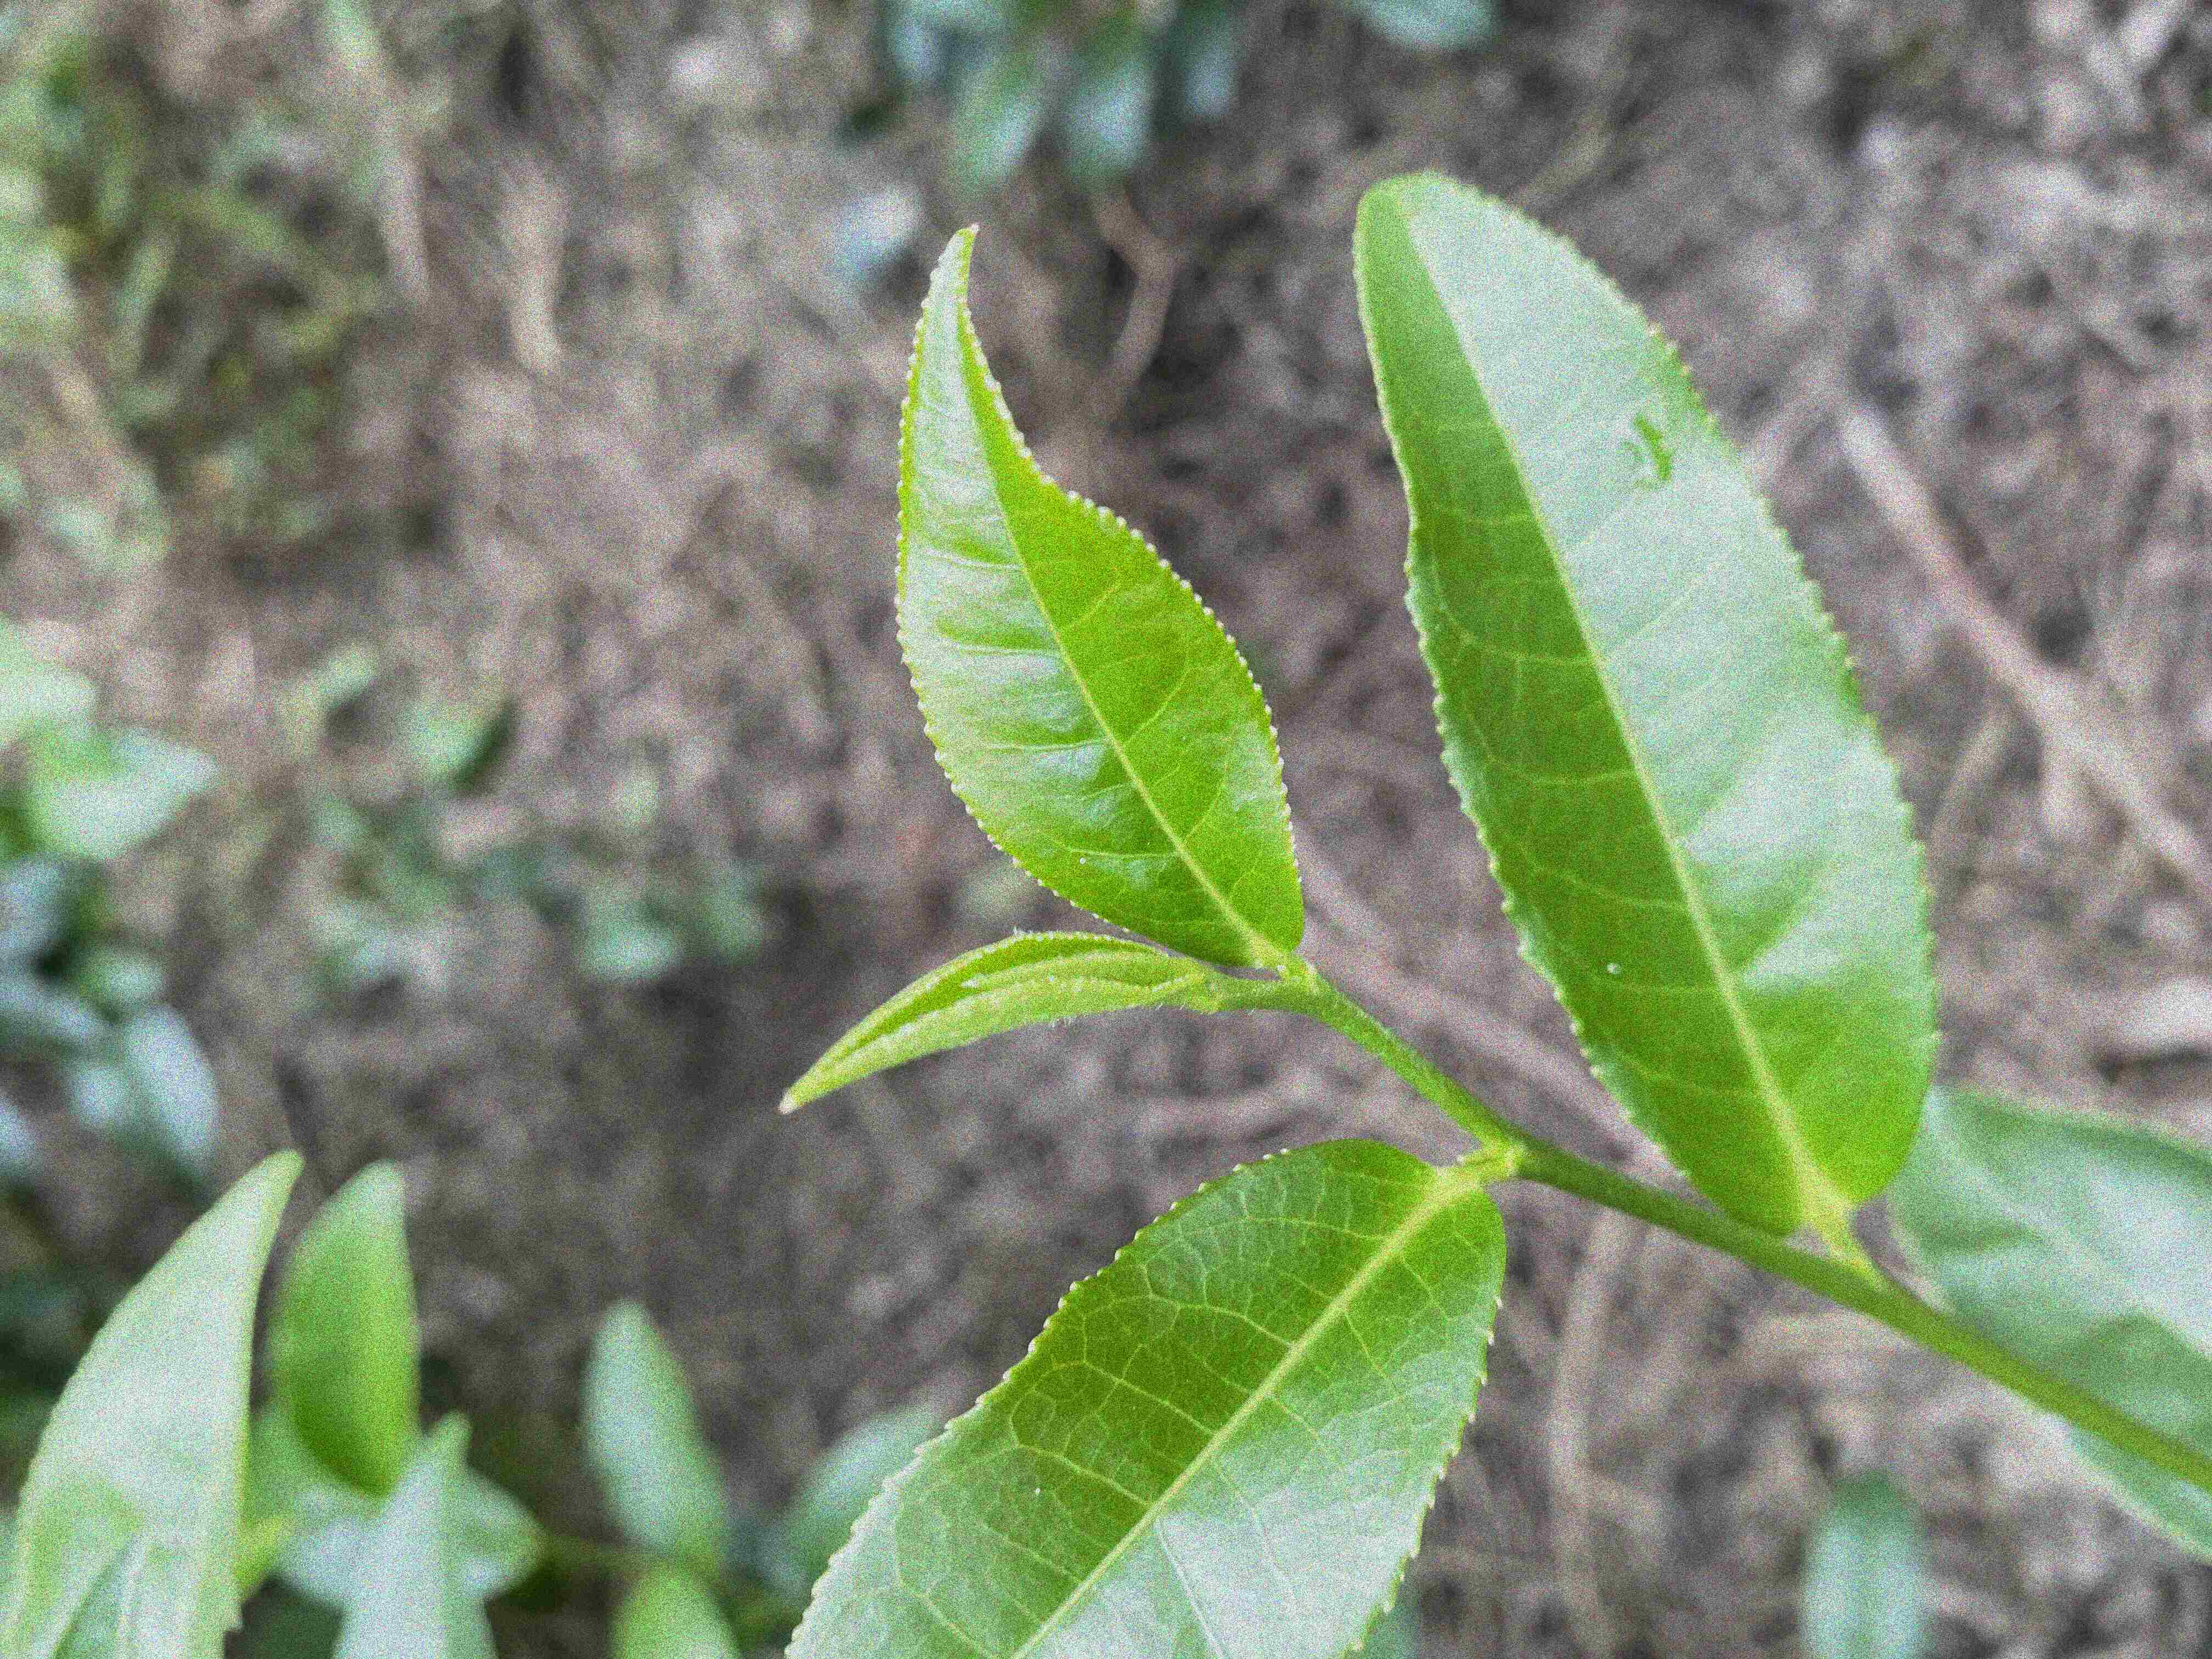healthy: (1341, 166, 1940, 1229), (784, 1138, 1510, 1656), (888, 216, 1305, 967)
